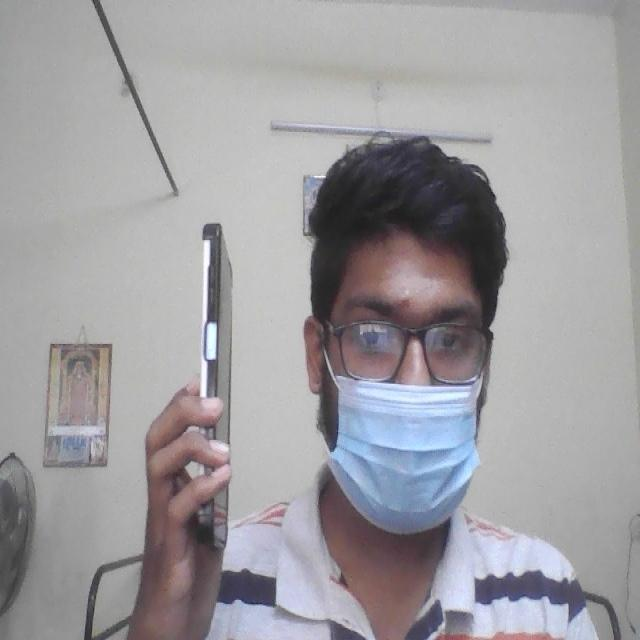Mobile: (190, 214, 237, 554)
